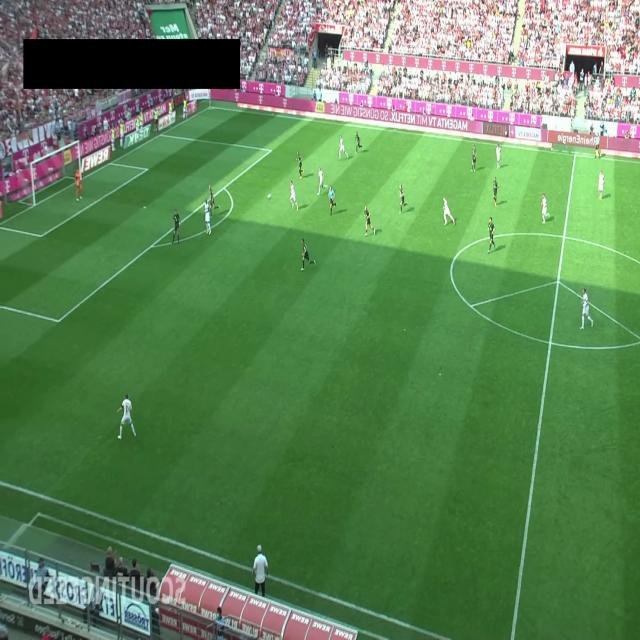ball: (267, 192, 272, 200)
goalkeeper: (75, 168, 82, 201)
player: (117, 392, 136, 440), (580, 288, 594, 330), (443, 197, 455, 226), (364, 205, 375, 236), (487, 216, 496, 253), (301, 238, 311, 270), (289, 180, 299, 210), (204, 199, 212, 235), (172, 209, 180, 244), (338, 135, 349, 160), (540, 194, 548, 224), (317, 166, 325, 195), (598, 170, 605, 200), (399, 182, 405, 214), (492, 176, 498, 207), (354, 131, 362, 152), (471, 144, 477, 172), (209, 186, 215, 208), (496, 143, 501, 169), (298, 158, 303, 178)
referee: (328, 185, 335, 216), (594, 133, 602, 158)
